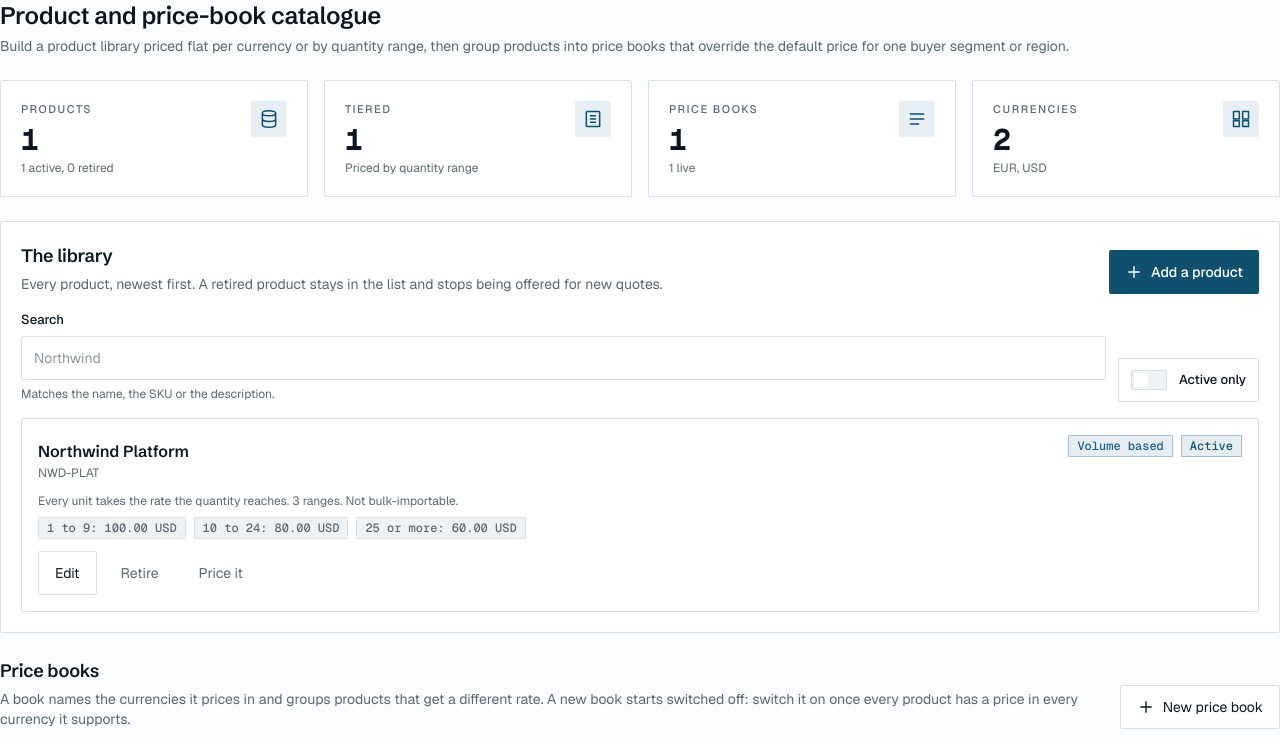
The product form › shows a flat price form for a flat product and a range form otherwise
Click the button "Add a product".
click(1184, 272)  # box [1109,250,1259,294]
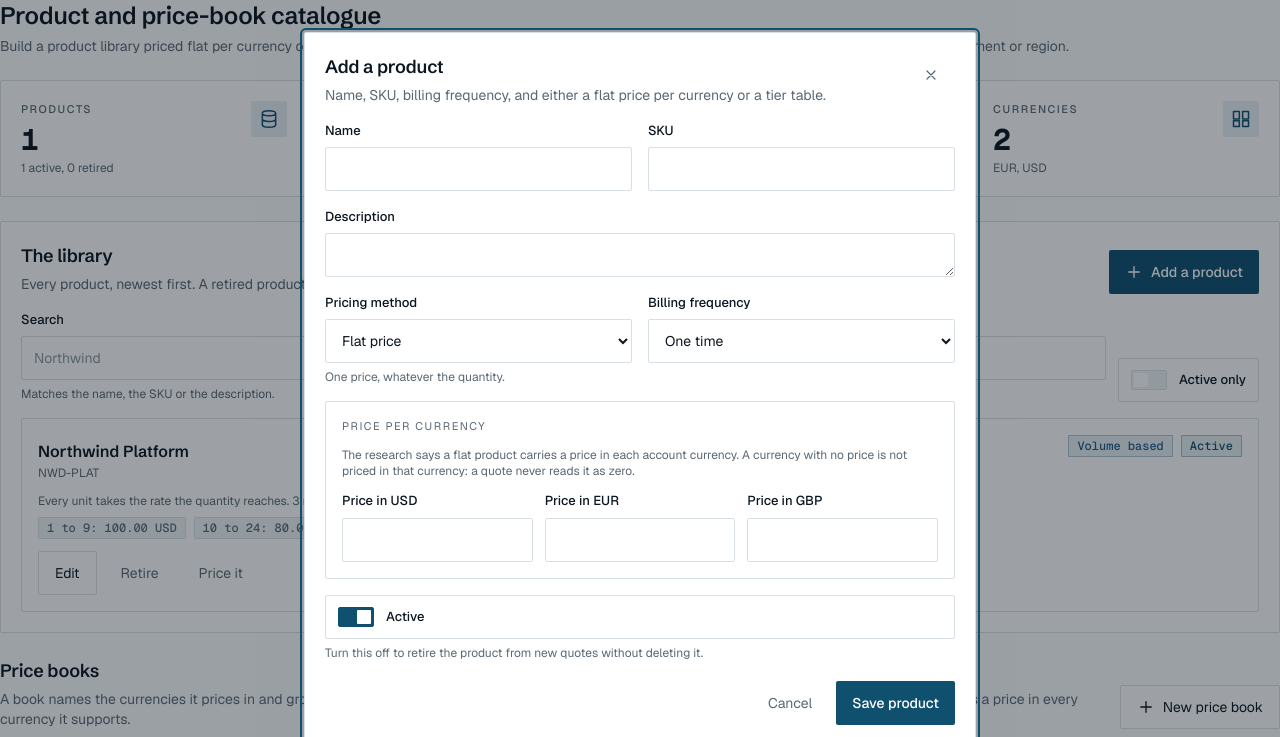
Expected: the text "Price per currency" is shown, [342,419,486,433]
Select "Graduated" in the dropdown labelled "Pricing method" at (478, 341), box [325,319,632,363]
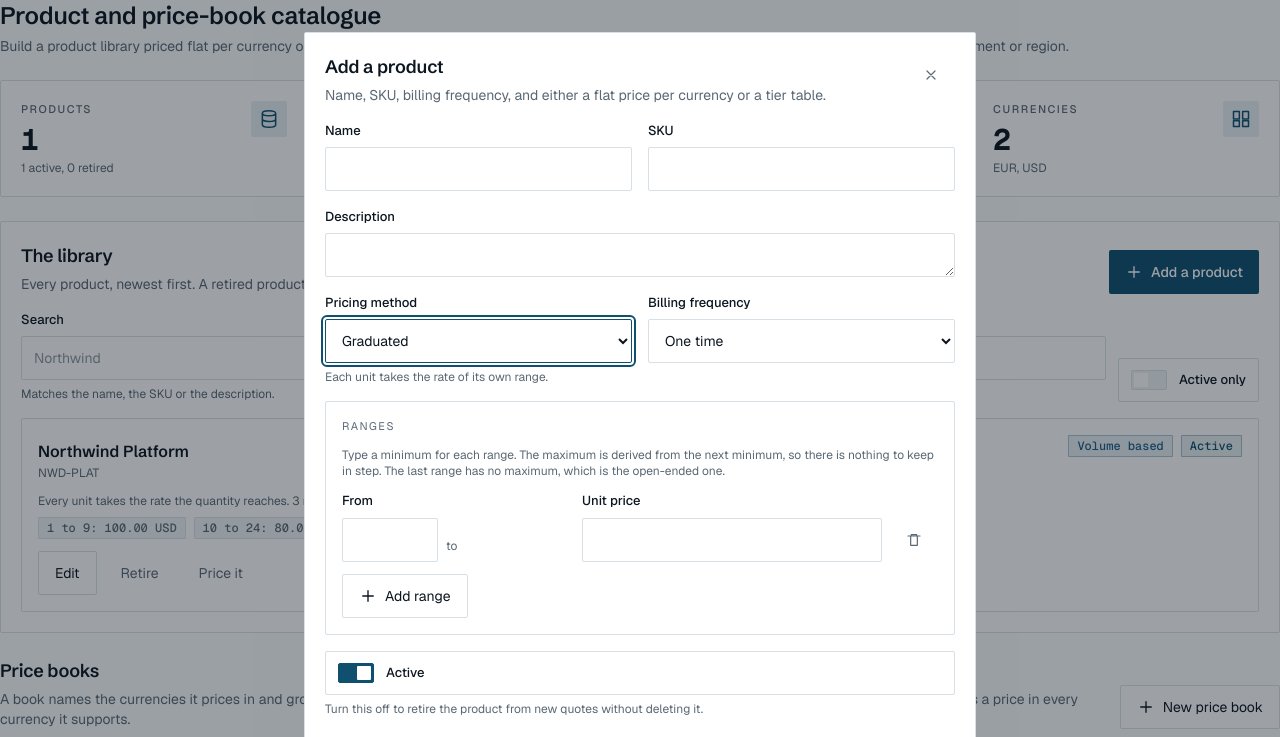
Expected: the text "Ranges" is shown, [342,419,395,433]
Expected: the text "The maximum is derived from the next minimum" is shown, [342,448,934,480]
